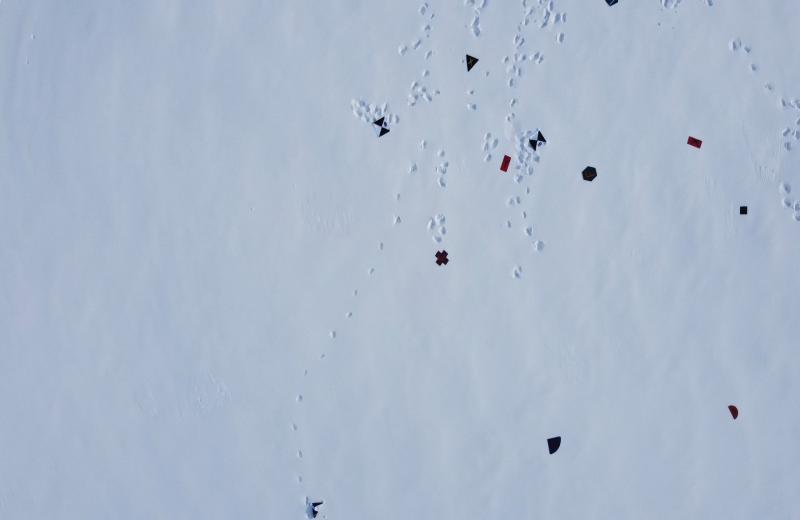Cross: (434, 249, 450, 268)
Hexagon: (580, 165, 597, 184)
Pentagon: (604, 0, 621, 7)
Quarter Circle: (546, 435, 564, 457)
Rectangle: (498, 155, 515, 174), (687, 134, 702, 151)
Semi Circle: (726, 403, 739, 422)
Square: (738, 204, 749, 216)
Triangle: (462, 54, 480, 72)
